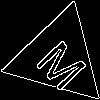M: (33, 32, 96, 93)
